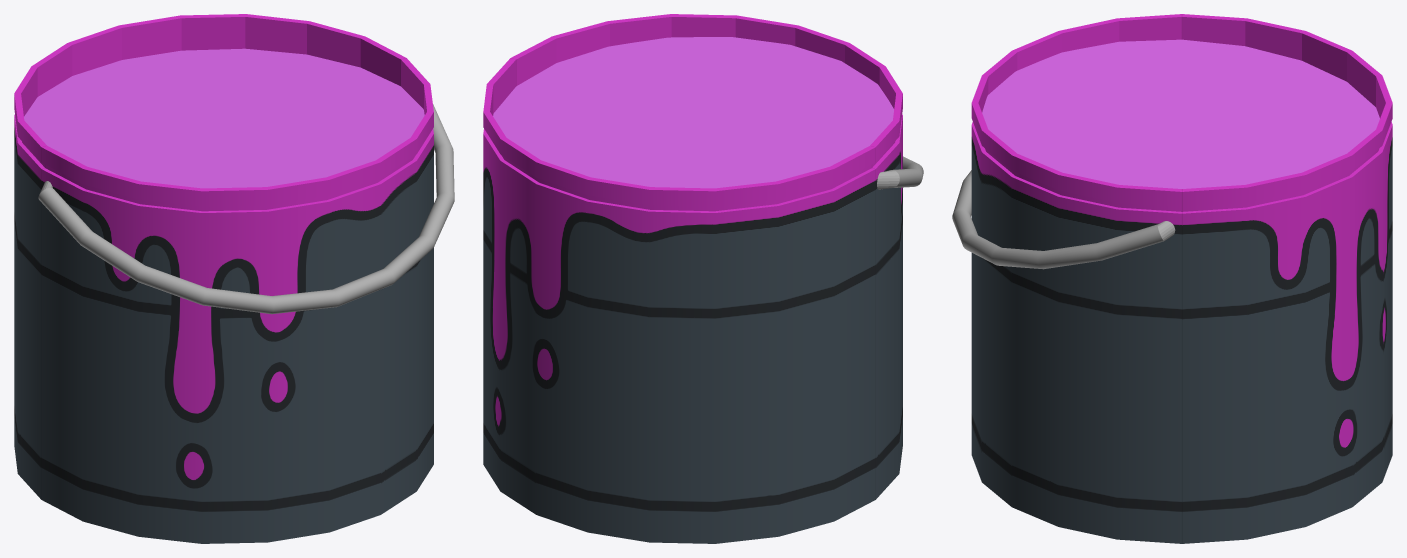
File: paintBucket_Magenta.fbx
3 views of the same model, side by side, from view 1: azimuth 30°, elevation 25°; view 2: azimuth 150°, elevation 25°; view 3: azimuth 270°, elevation 25° (orthographic).
Parts seen in each view (by area): view 1: paintBucket, paintMesh, bucketHandle; view 2: paintBucket, paintMesh, bucketHandle; view 3: paintBucket, paintMesh, bucketHandle.
Part boxes in pixels (<box>): paintBucket: <box>14,14,433,543</box>; paintMesh: <box>24,48,424,188</box>; bucketHandle: <box>38,104,454,314</box>; paintBucket: <box>483,14,902,543</box>; paintMesh: <box>493,37,894,188</box>; bucketHandle: <box>877,156,923,189</box>; paintBucket: <box>971,14,1392,543</box>; paintMesh: <box>982,39,1379,188</box>; bucketHandle: <box>952,170,1175,269</box>.
Size of the model in its own units: 1.32 by 1.13 by 1.28.
Materials: 3 (1 with a texture image).
